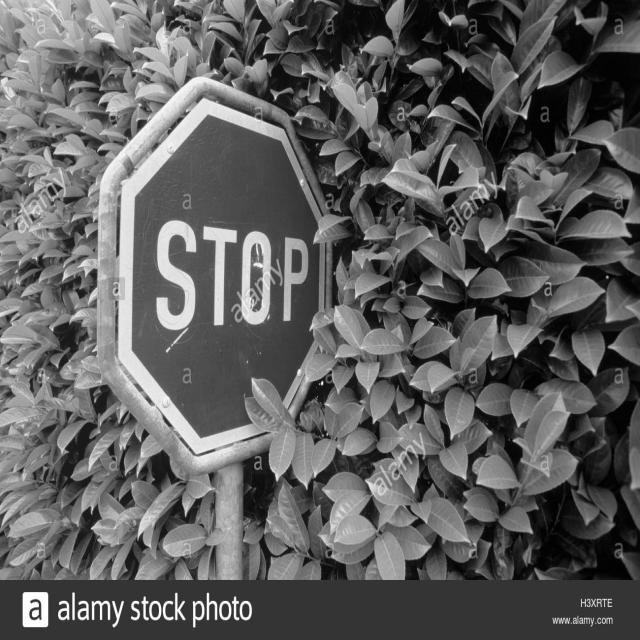Stop-sign: (58, 43, 340, 482)
